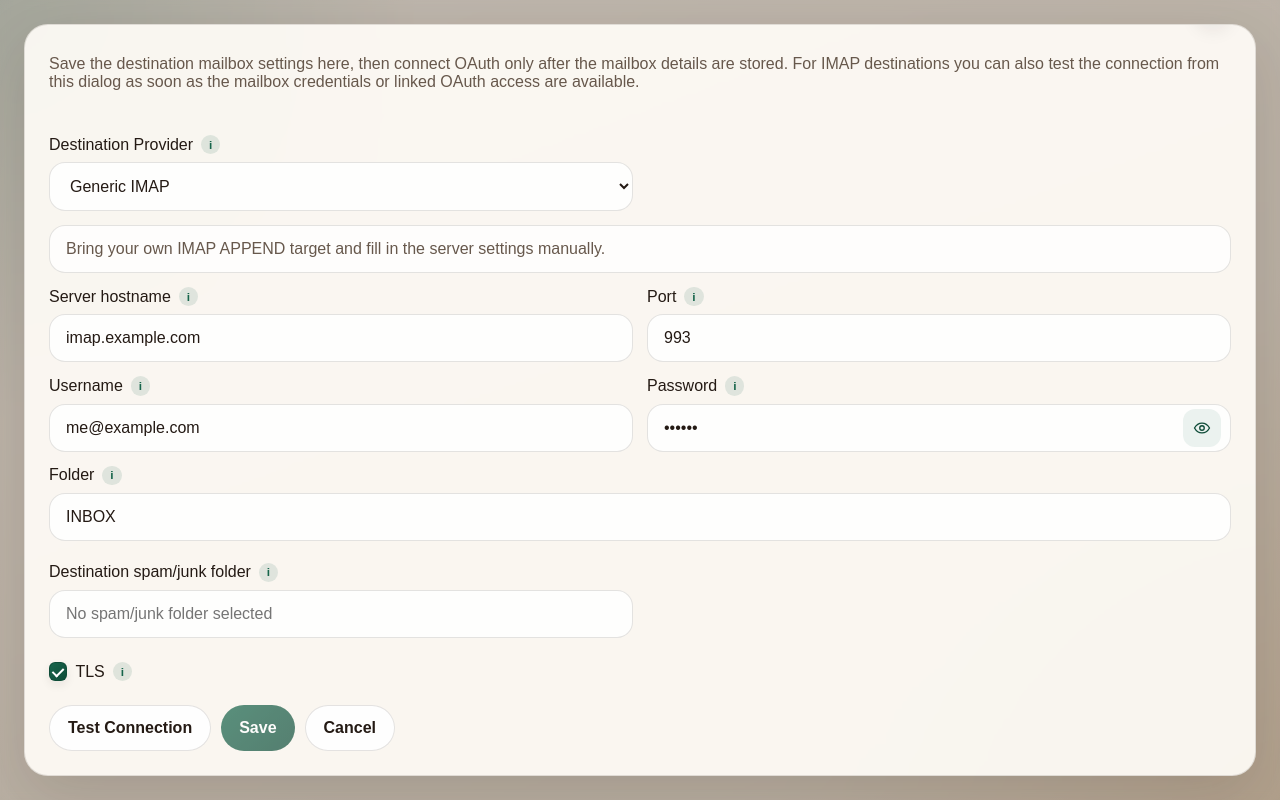
Test: DestinationMailboxDialog › shows folder loading failures inline under the folder field
This screenshot has width=1280, height=800.
(page scrolled)
Click the button "Test Connection".
click(130, 728)  # box [49,705,211,751]
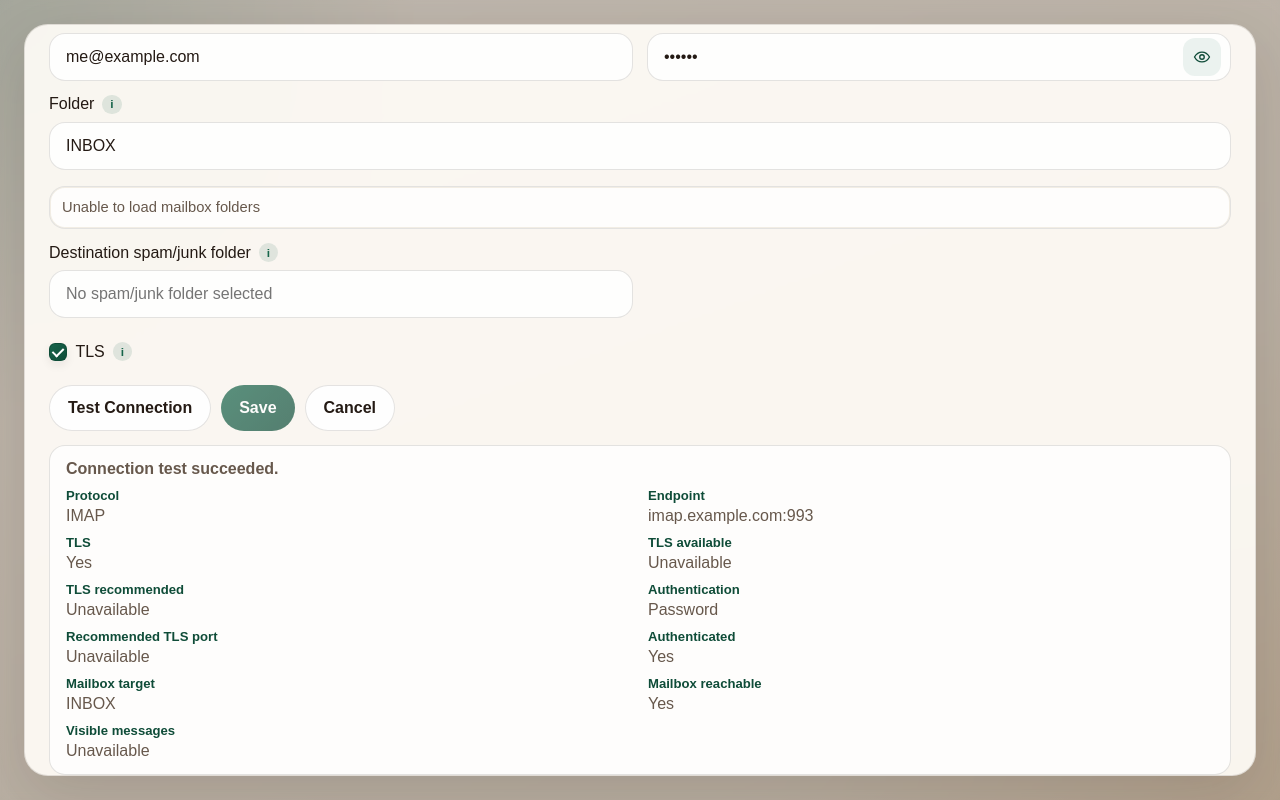
Now the text "Unable to load mailbox folders" is shown, box [49,186,1231,229]
